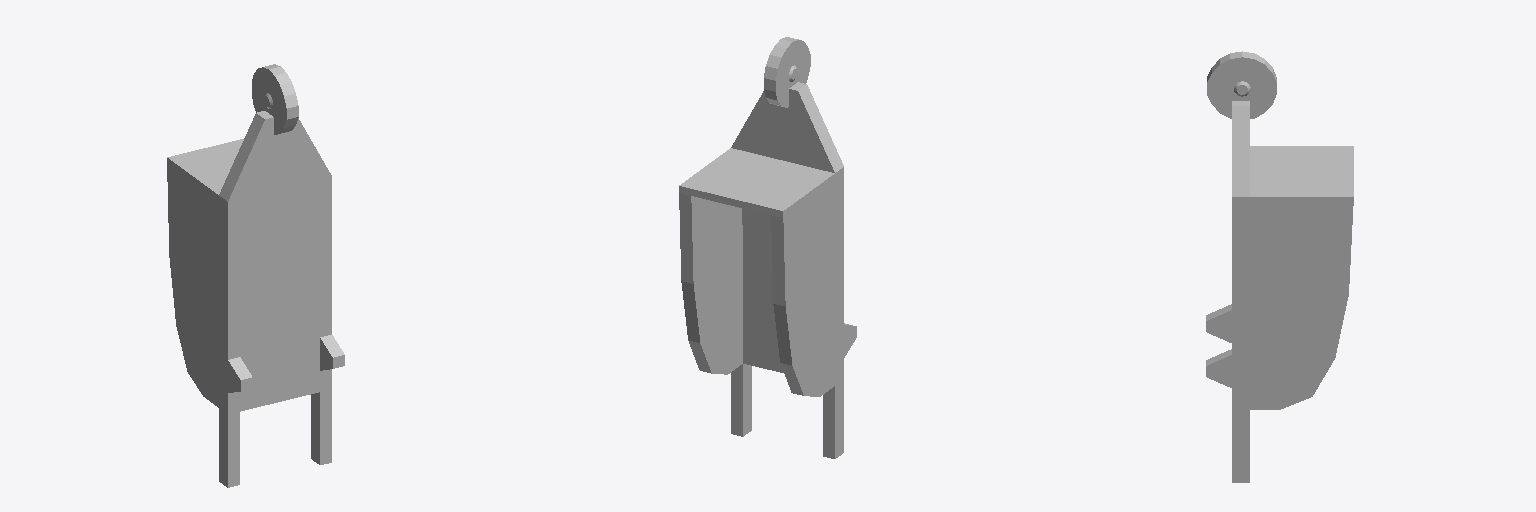
File: Wheel Barrow.obj
3 renders of one model, left to right at view 1: azimuth 30°, elevation 25°; view 2: azimuth 150°, elevation 25°; view 3: azimuth 270°, elevation 25°, orthographic.
Visible parts, largest first — view 1: Wheel_Barrow_Mesh.015; view 2: Wheel_Barrow_Mesh.015; view 3: Wheel_Barrow_Mesh.015.
Part boxes in pixels (x1,y1,x2,y2): Wheel_Barrow_Mesh.015: (167,64,344,487); Wheel_Barrow_Mesh.015: (679,37,856,458); Wheel_Barrow_Mesh.015: (1206,51,1353,482).
Size of the model in its own units: 0.5876 by 2.17 by 0.7177.